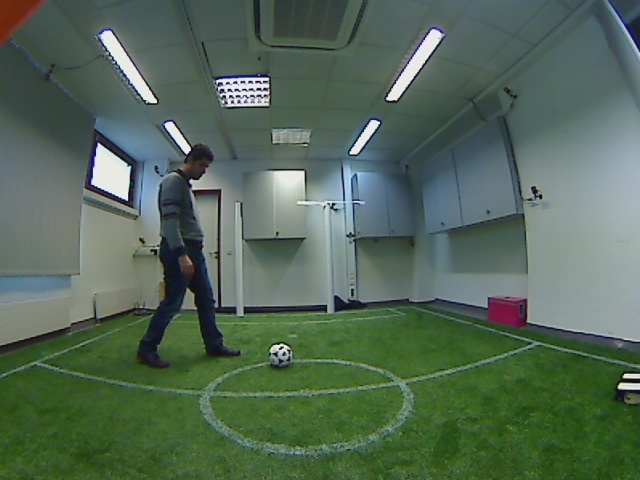ball: (261, 338, 298, 375)
